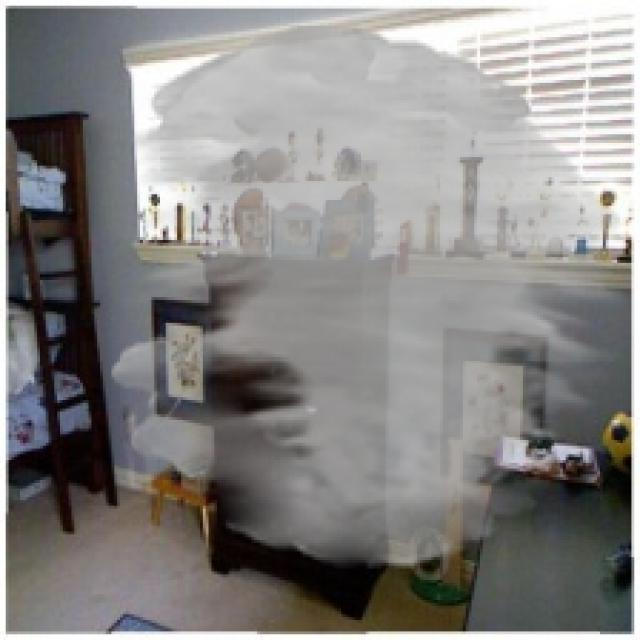smoke: (111, 26, 626, 568)
